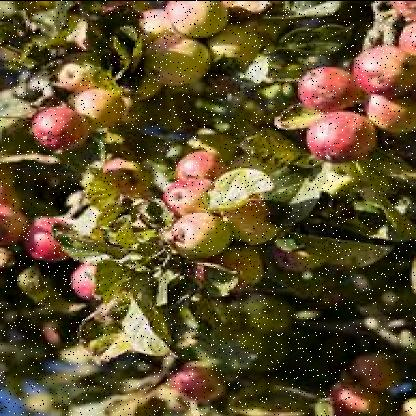apple: (302, 108, 370, 166), (144, 32, 206, 86), (292, 67, 356, 118), (352, 46, 408, 100), (161, 216, 219, 262), (64, 258, 122, 302), (64, 88, 124, 130), (30, 108, 88, 150), (156, 178, 218, 214), (22, 216, 68, 260), (176, 144, 226, 182)
